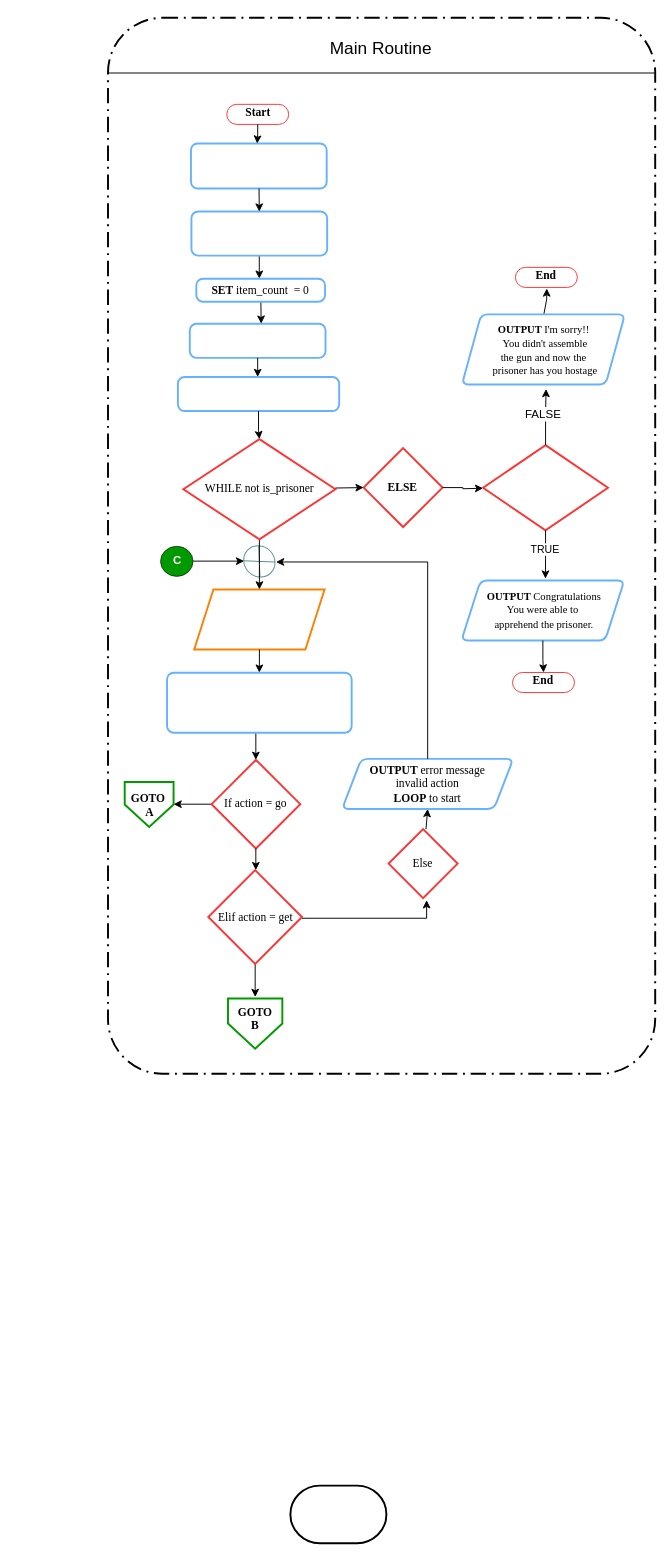
The diagram is 672 pixels wide and 1560 high, and some of its shapes have lost their labels. The centre of each missing label's shape, as x and y in pixels:
"CREATE dict for rooms with directions & item" goes at pixel 258 165.
"CREATE inventory array for items collected" goes at pixel 259 233.
"IF item_count = 8" goes at pixel 545 487.
"PROMPT user to enter command" goes at pixel 259 619.
"SET current_room = Garage" goes at pixel 258 394.
"SET is_prisoner FALSE" goes at pixel 257 340.
"SPLIT user Input SET first value as action SET second value as direction" goes at pixel 259 702.
